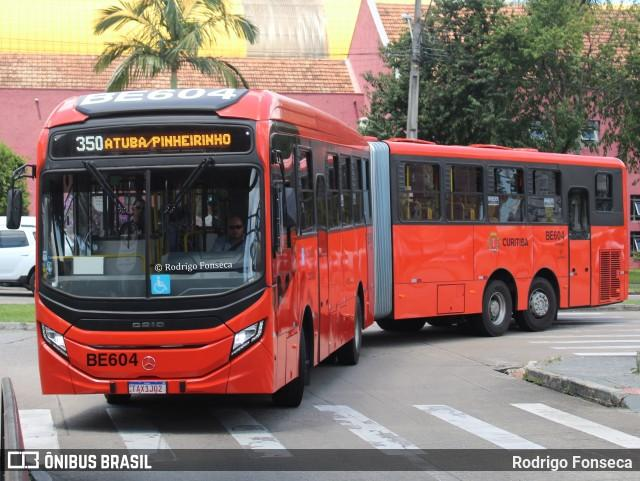ATUBA PINHEIRINHO: (101, 130, 234, 153)
